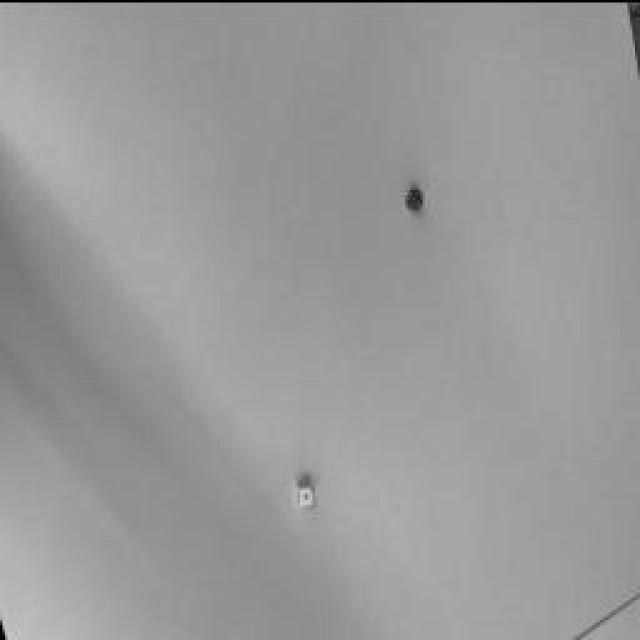dice_1: (301, 485, 314, 503)
dice_4: (411, 185, 424, 205)
